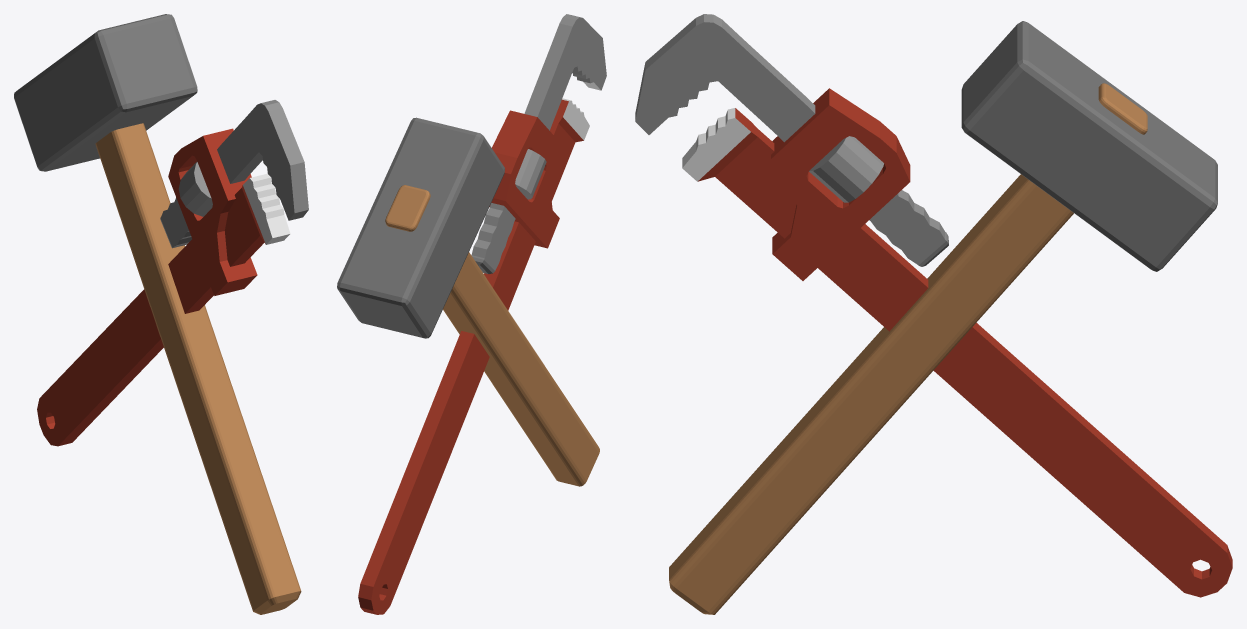
Rendered from 维修站点.gltf.
The picture shows the model from 3 angles, left to right: view 1: azimuth 30°, elevation 25°; view 2: azimuth 150°, elevation 25°; view 3: azimuth 270°, elevation 25°; orthographic projection. The views are drawn at different scales.
Parts seen in each view (by area): view 1: node_Hammer_02_Handle_-61842, node_Pipe_Wrench_Handle_-62008, node_Hammer_02_Top_-61844, node_Pipe_Wrench_Top_-62010, node_Pipe_Wrench_Wheel_-62012; view 2: node_Hammer_02_Top_-61844, node_Pipe_Wrench_Handle_-62008, node_Hammer_02_Handle_-61842, node_Pipe_Wrench_Top_-62010, node_Pipe_Wrench_Wheel_-62012; view 3: node_Pipe_Wrench_Handle_-62008, node_Hammer_02_Handle_-61842, node_Hammer_02_Top_-61844, node_Pipe_Wrench_Top_-62010, node_Pipe_Wrench_Wheel_-62012.
Boxes of the visible parts, x1,y1,x2,y2 form: node_Hammer_02_Handle_-61842: [95, 123, 301, 614]; node_Pipe_Wrench_Handle_-62008: [37, 128, 290, 446]; node_Hammer_02_Top_-61844: [14, 14, 197, 171]; node_Pipe_Wrench_Top_-62010: [160, 100, 308, 248]; node_Pipe_Wrench_Wheel_-62012: [178, 161, 212, 216]; node_Hammer_02_Top_-61844: [337, 117, 504, 338]; node_Pipe_Wrench_Handle_-62008: [358, 98, 589, 614]; node_Hammer_02_Handle_-61842: [385, 185, 599, 486]; node_Pipe_Wrench_Top_-62010: [471, 14, 606, 273]; node_Pipe_Wrench_Wheel_-62012: [515, 149, 546, 199]; node_Pipe_Wrench_Handle_-62008: [682, 88, 1232, 597]; node_Hammer_02_Handle_-61842: [669, 83, 1147, 614]; node_Hammer_02_Top_-61844: [961, 21, 1217, 271]; node_Pipe_Wrench_Top_-62010: [635, 14, 948, 266]; node_Pipe_Wrench_Wheel_-62012: [809, 136, 883, 202].
Bounding box in the file's own units: 0.1579 × 0.9685 × 0.8879.
